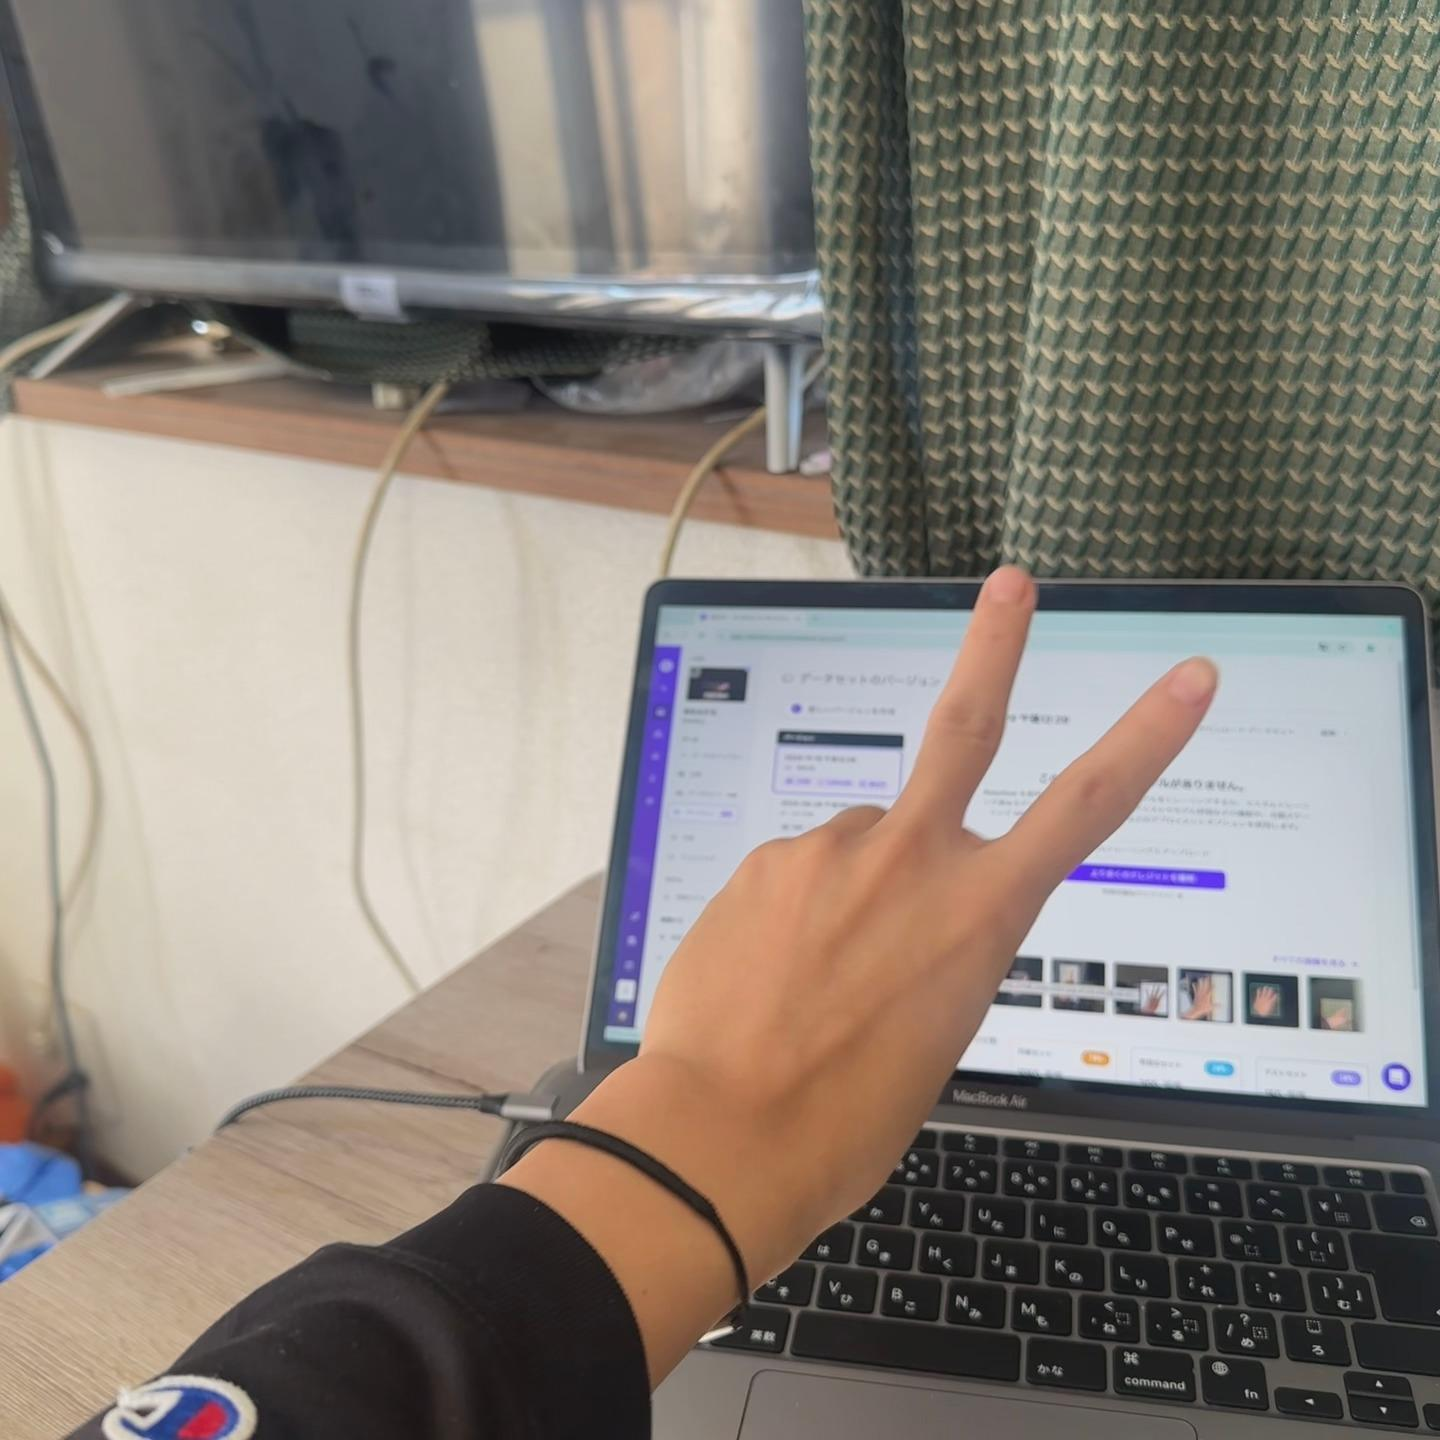without_gloves: (691, 375, 1440, 1404)
